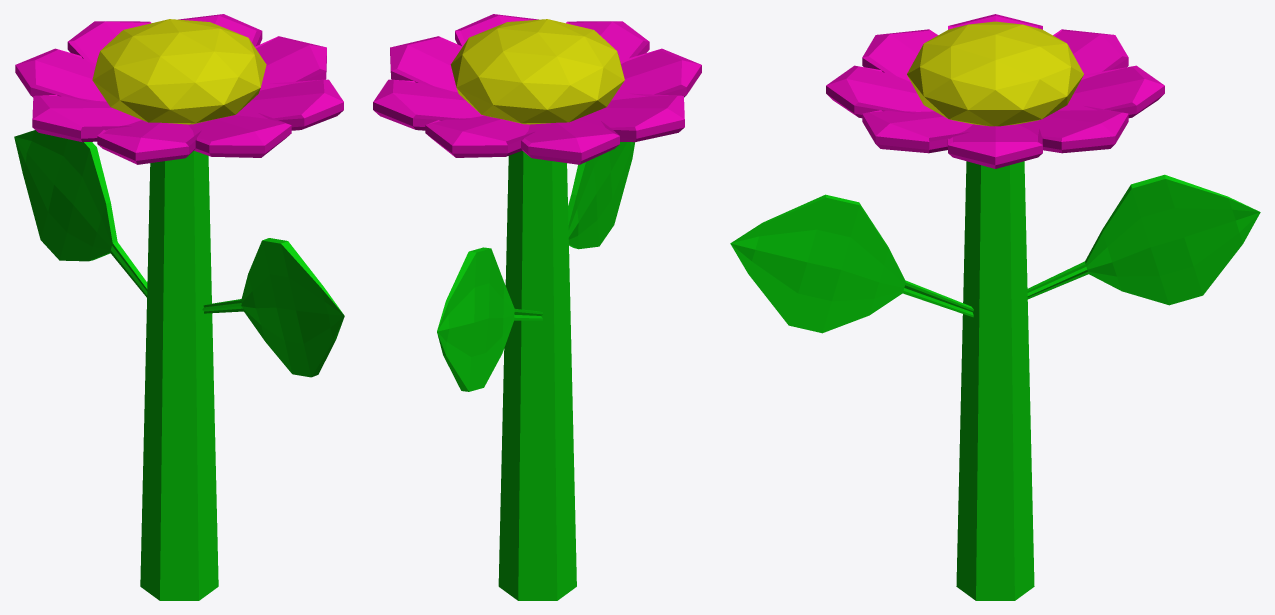
File: ak_flower01.fbx
3 views of the same model, side by side, from view 1: azimuth 30°, elevation 25°; view 2: azimuth 150°, elevation 25°; view 3: azimuth 270°, elevation 25° (orthographic).
Visible parts, largest first — view 1: Cube.006; view 2: Cube.006; view 3: Cube.006.
Boxes of the visible parts, x1=… form: Cube.006: x1=14, y1=14, x2=344, y2=600; Cube.006: x1=373, y1=14, x2=701, y2=600; Cube.006: x1=730, y1=14, x2=1260, y2=600.
Bounding box in the file's own units: 26.89 × 48.33 × 42.09.
